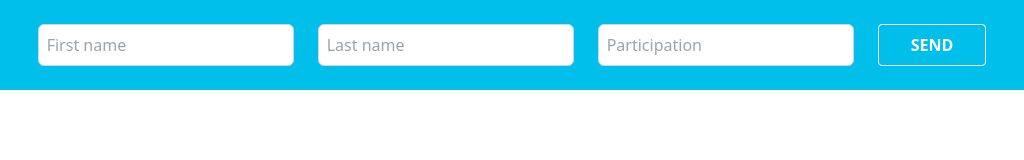
Scenario: Header Form Validation › displays error messages when trying to submit empty fields
The image size is (1024, 160).
Step 1. Click the button "SEND" → (932, 45), box 878,24 -> 986,66
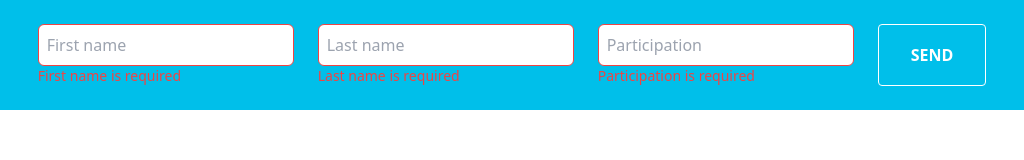
Result: the text "First name is required" is shown at 38,66 -> 181,85
Result: the text "Last name is required" is shown at 318,66 -> 460,85
Result: the text "Participation is required" is shown at 598,66 -> 755,85
